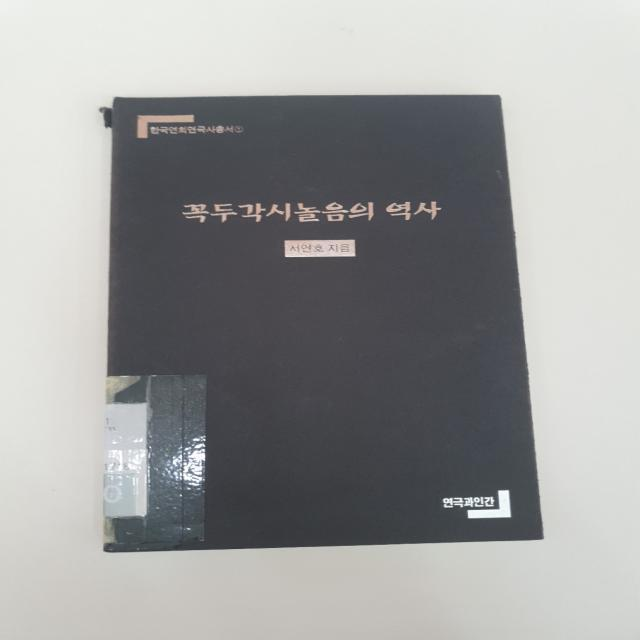Ripped: (95, 86, 148, 143)
